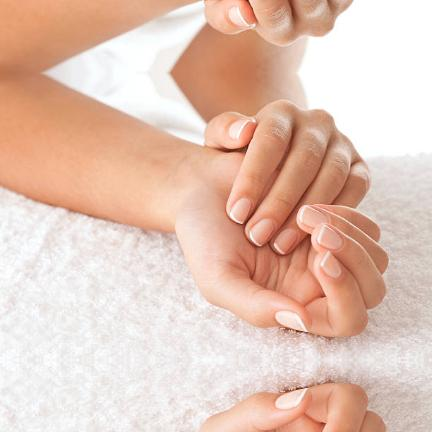Nail: (249, 217, 275, 245), (275, 310, 308, 331), (275, 388, 308, 409), (273, 227, 298, 253), (318, 224, 343, 249), (300, 205, 328, 227), (320, 250, 342, 277), (230, 197, 252, 223), (229, 118, 249, 140), (229, 4, 249, 26)
